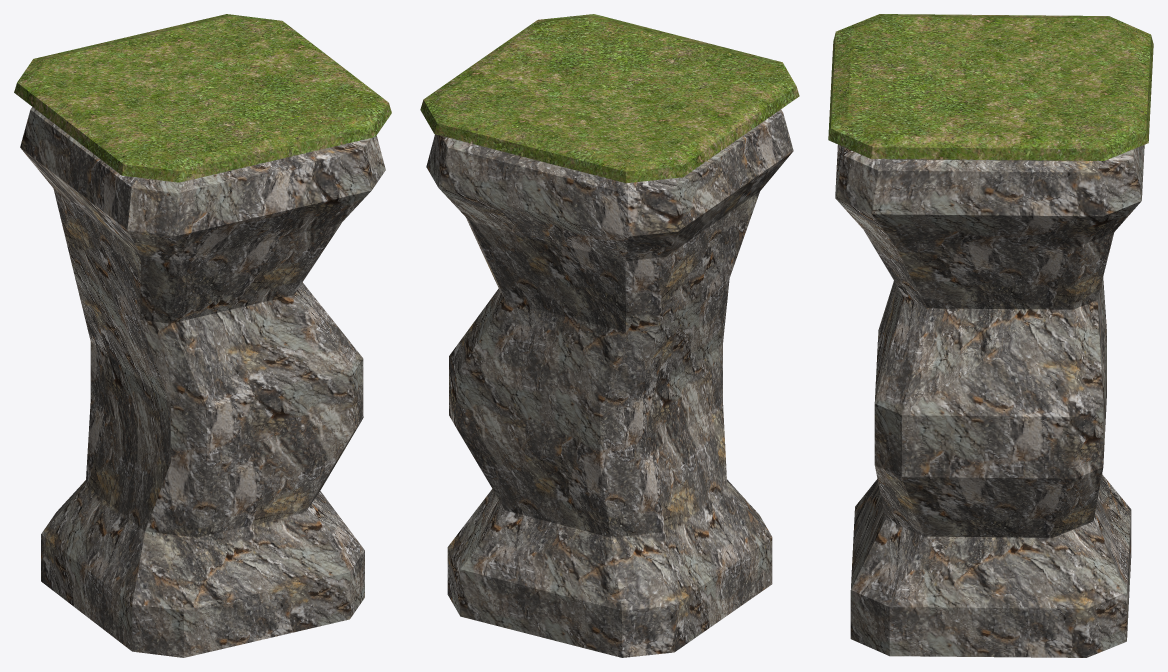
File: ARC0310006.fbx
The picture shows the model from 3 angles, left to right: view 1: azimuth 30°, elevation 25°; view 2: azimuth 150°, elevation 25°; view 3: azimuth 270°, elevation 25°; orthographic projection. The views are drawn at different scales.
Visible parts, largest first — view 1: smARC0310006; view 2: smARC0310006; view 3: smARC0310006.
Part boxes in pixels (box(x1,y1,x2,y2)): smARC0310006: box(14, 14, 391, 657); smARC0310006: box(420, 14, 799, 657); smARC0310006: box(828, 14, 1153, 657).
Bounding box in the file's own units: 131 × 231 × 131.
1 material, 1 textured.
